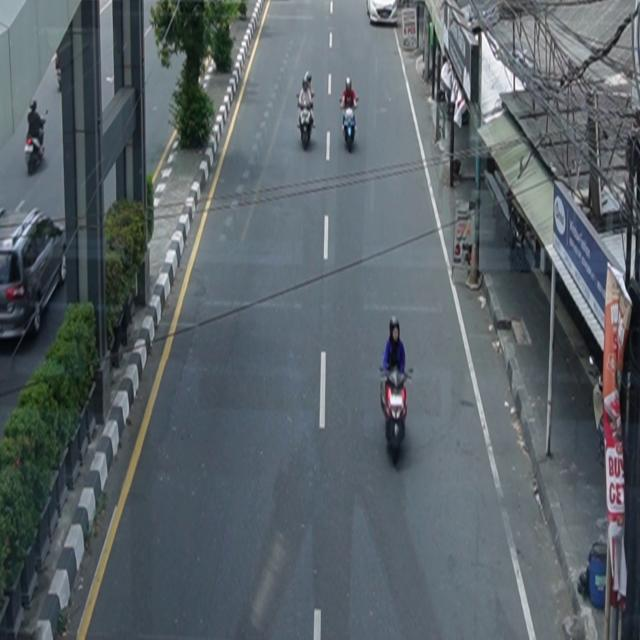car: (1, 206, 68, 343), (367, 1, 398, 26)
